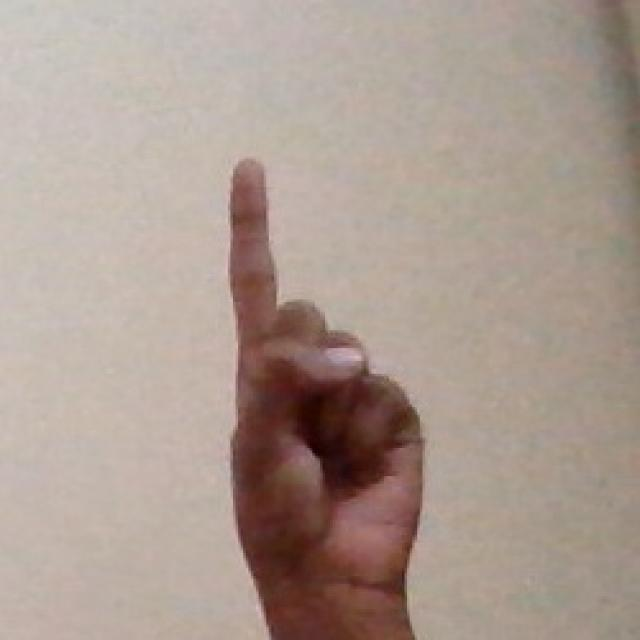Numeric-1: (224, 147, 422, 628)
